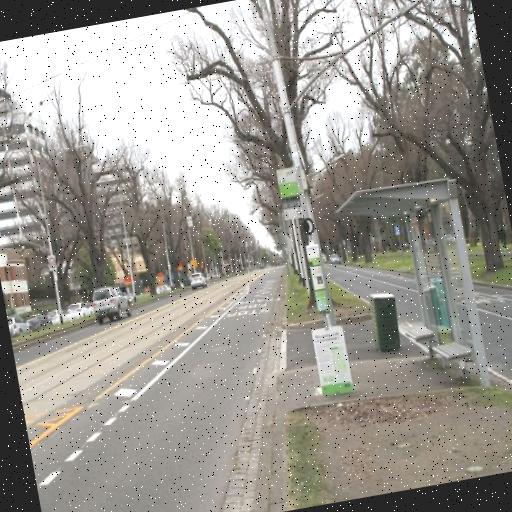clear_path: (285, 324, 435, 412)
platform_edge: (276, 325, 292, 409)
signage: (276, 165, 356, 396)
